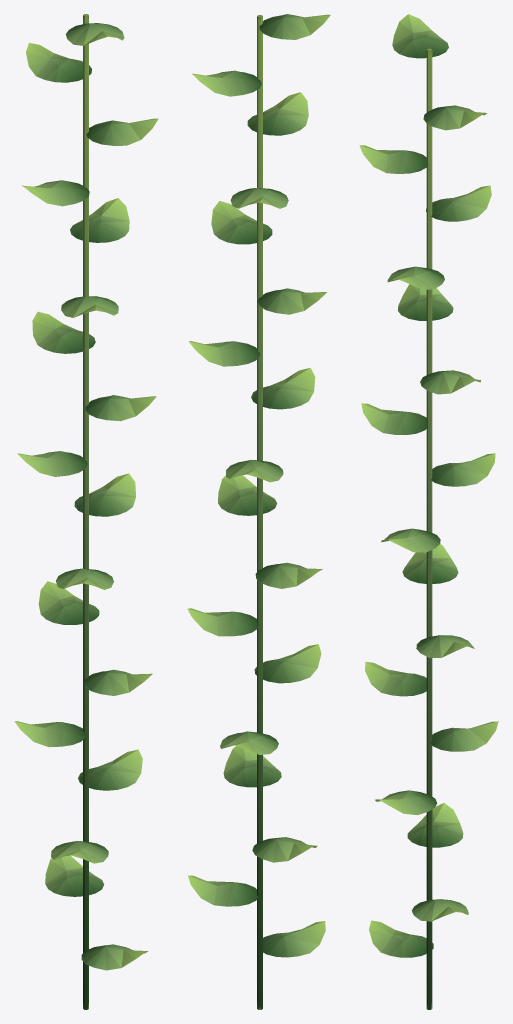
Rendered from SM_Algae_7.fbx.
3 views of the same model, side by side, from view 1: azimuth 90°, elevation 25°; view 2: azimuth 150°, elevation 25°; view 3: azimuth 270°, elevation 25° (orthographic). The views are drawn at different scales.
Visible parts, largest first — view 1: Algae_7; view 2: Algae_7; view 3: Algae_7.
Boxes of the visible parts, bbox=[...] form: Algae_7: bbox=[14, 14, 158, 1009]; Algae_7: bbox=[187, 14, 330, 1009]; Algae_7: bbox=[359, 14, 498, 1009].
Size of the model in its own units: 39.83 by 314 by 40.97.
